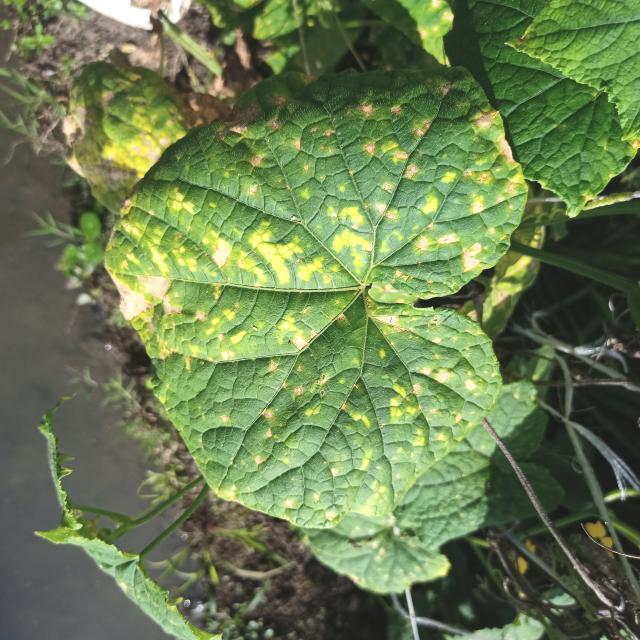disease_cucumber: (113, 69, 518, 496)
